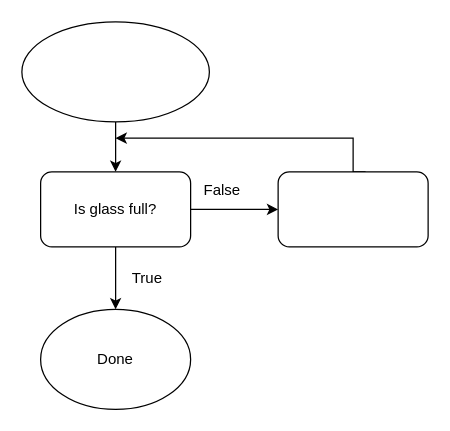
The diagram is 450 pixels wide and 431 high, and some of its shapes have lost their labels. The shapes that lost their labels are listed below. From the top down, each one's centre as x and y in pixels, then its label:
(115,71): Get a glass
(352,209): Pour a little more water
